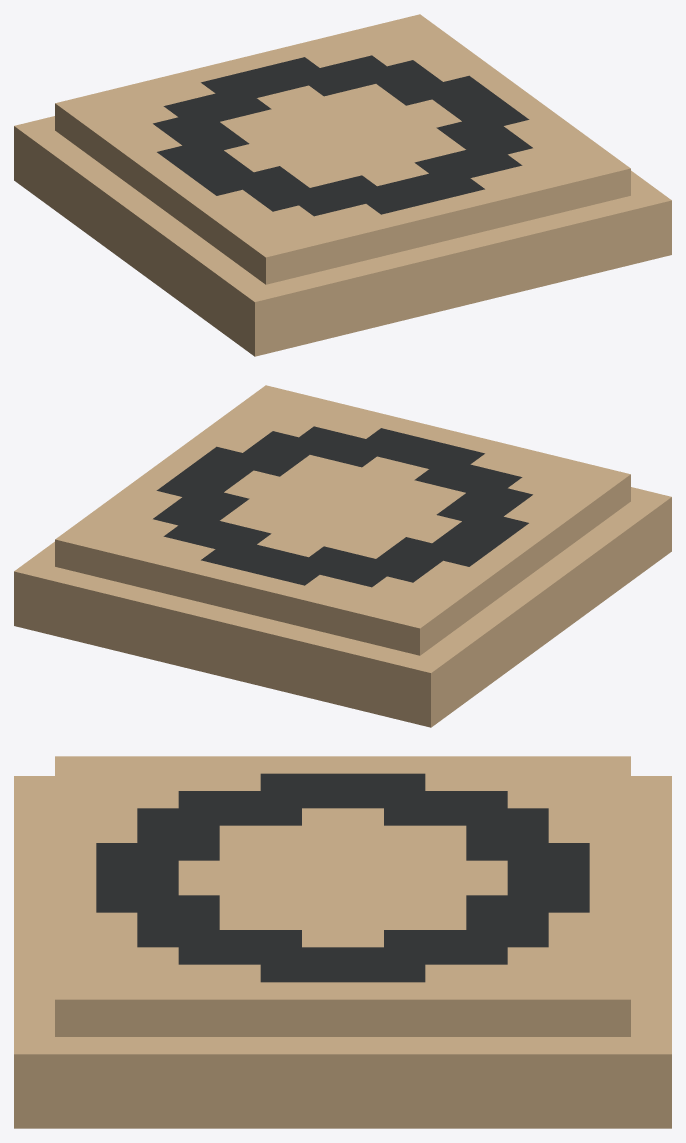
The model's file is o-v4-tan-black.gltf.
3 renders of one model, top to bottom at view 1: azimuth 30°, elevation 25°; view 2: azimuth 150°, elevation 25°; view 3: azimuth 270°, elevation 25°, orthographic. The views are drawn at different scales.
Visible parts, largest first — view 1: Untitled; view 2: Untitled; view 3: Untitled.
Part boxes in pixels (bbox=[...]): Untitled: bbox=[14, 14, 671, 356]; Untitled: bbox=[14, 385, 671, 727]; Untitled: bbox=[14, 756, 671, 1128].
Bounding box in the file's own units: 1.6 × 0.3 × 1.6.
Materials: 1 (1 with a texture image).
